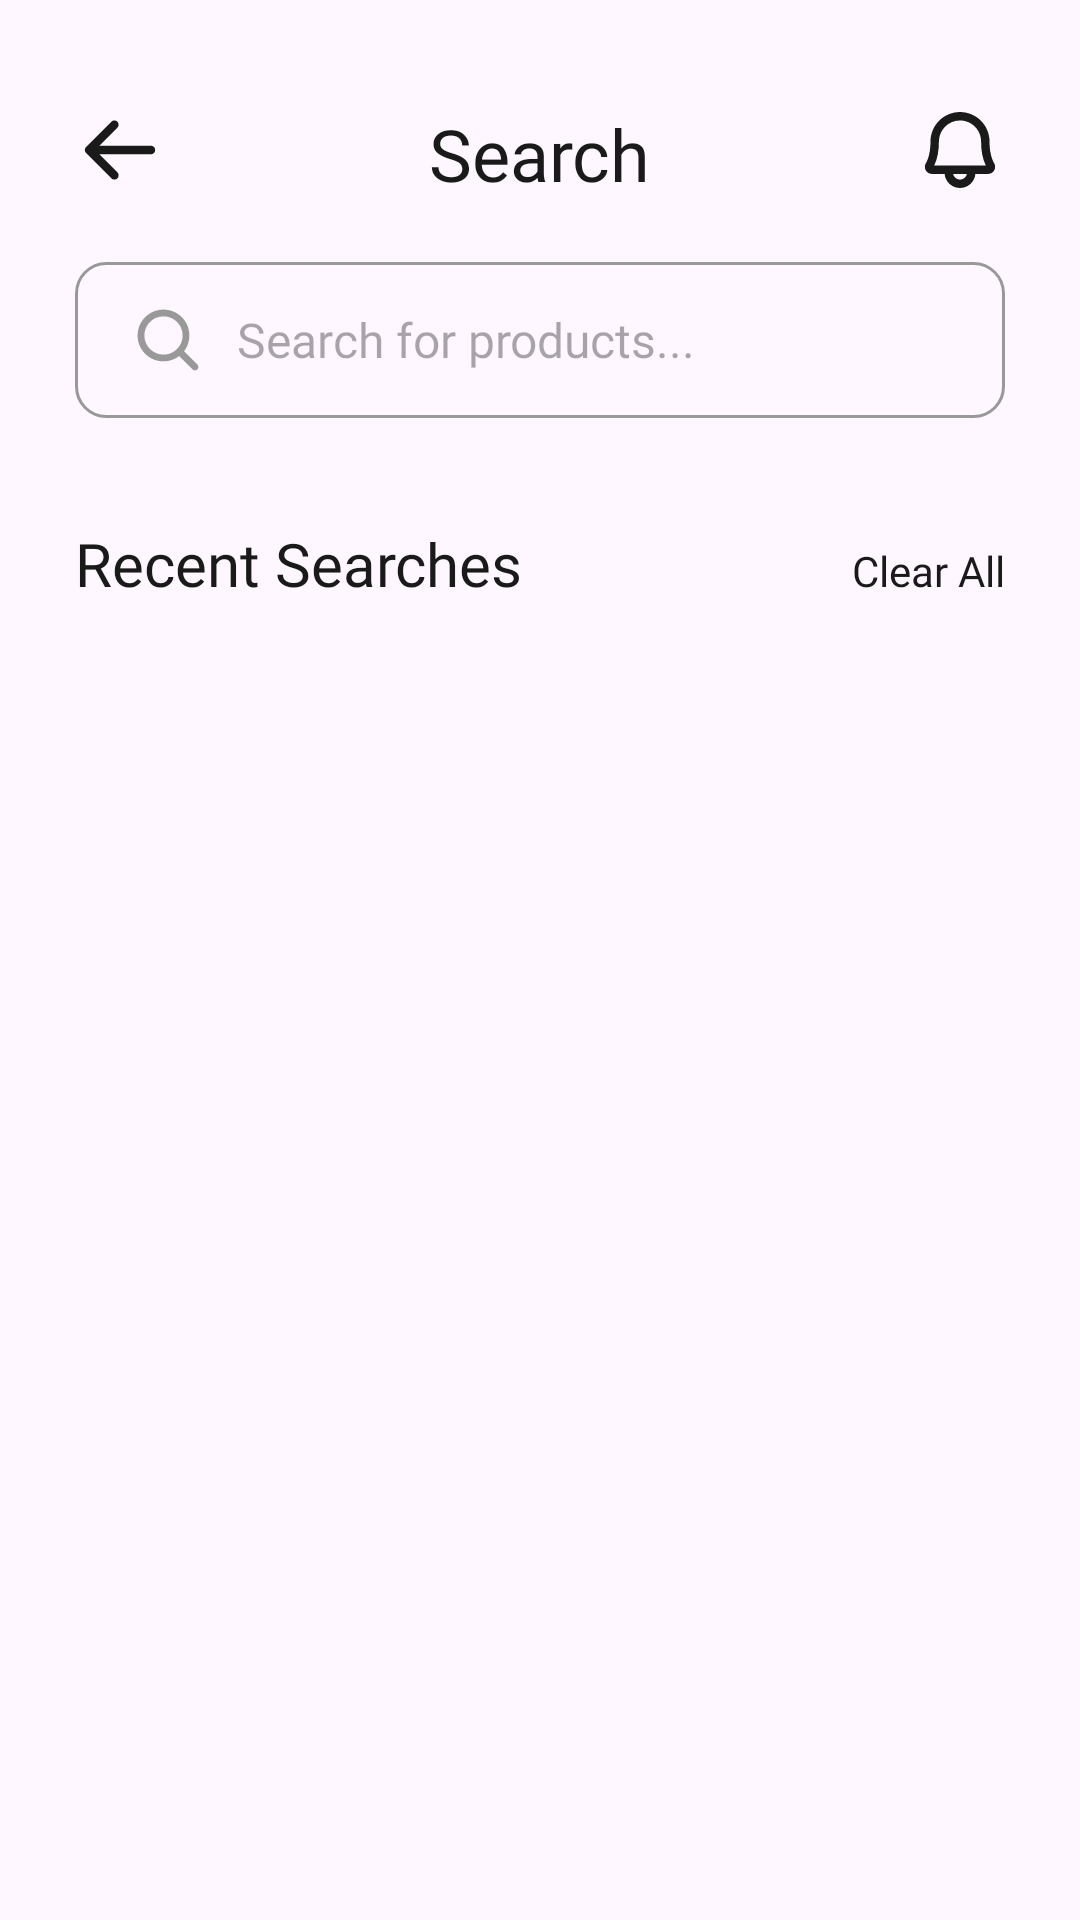

Where icons sit on this 1080px x 1920px app screen, as (x1, y1, x2, y2):
arrow back: (84, 120, 155, 180)
bell: (924, 112, 995, 188)
